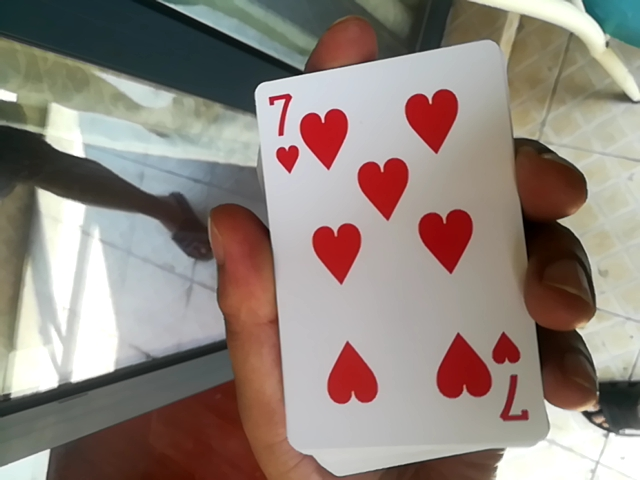hx 7: (240, 51, 574, 455)
